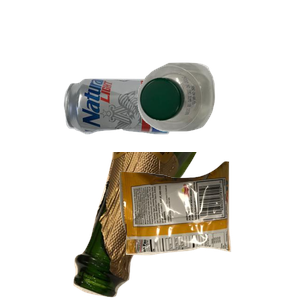glass: (71, 152, 260, 300)
metal: (61, 75, 231, 202)
plastic: (135, 60, 300, 184)
trash: (117, 159, 300, 300)
